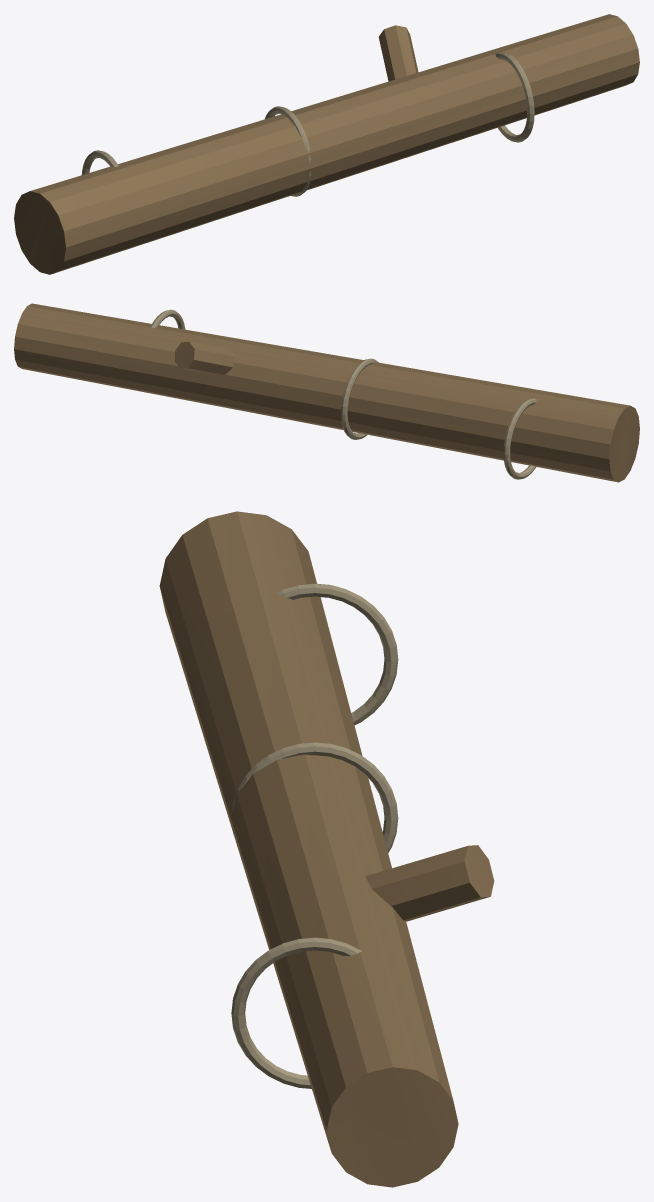
The model's file is float-driftwood.glb.
3 renders of one model, top to bottom at view 1: azimuth 30°, elevation 25°; view 2: azimuth 150°, elevation 25°; view 3: azimuth 270°, elevation 25°, orthographic. The views are drawn at different scales.
Visible parts, largest first — view 1: float-driftwood; view 2: float-driftwood; view 3: float-driftwood.
Boxes of the visible parts, <box> form: float-driftwood: <box>14,14,639,274</box>; float-driftwood: <box>14,303,639,482</box>; float-driftwood: <box>159,511,494,1187</box>.
Size of the model in its own units: 4.53 by 0.6897 by 1.16.
